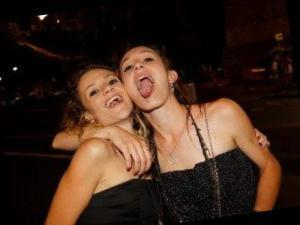Drunk: (124, 49, 167, 108), (81, 71, 129, 123)
